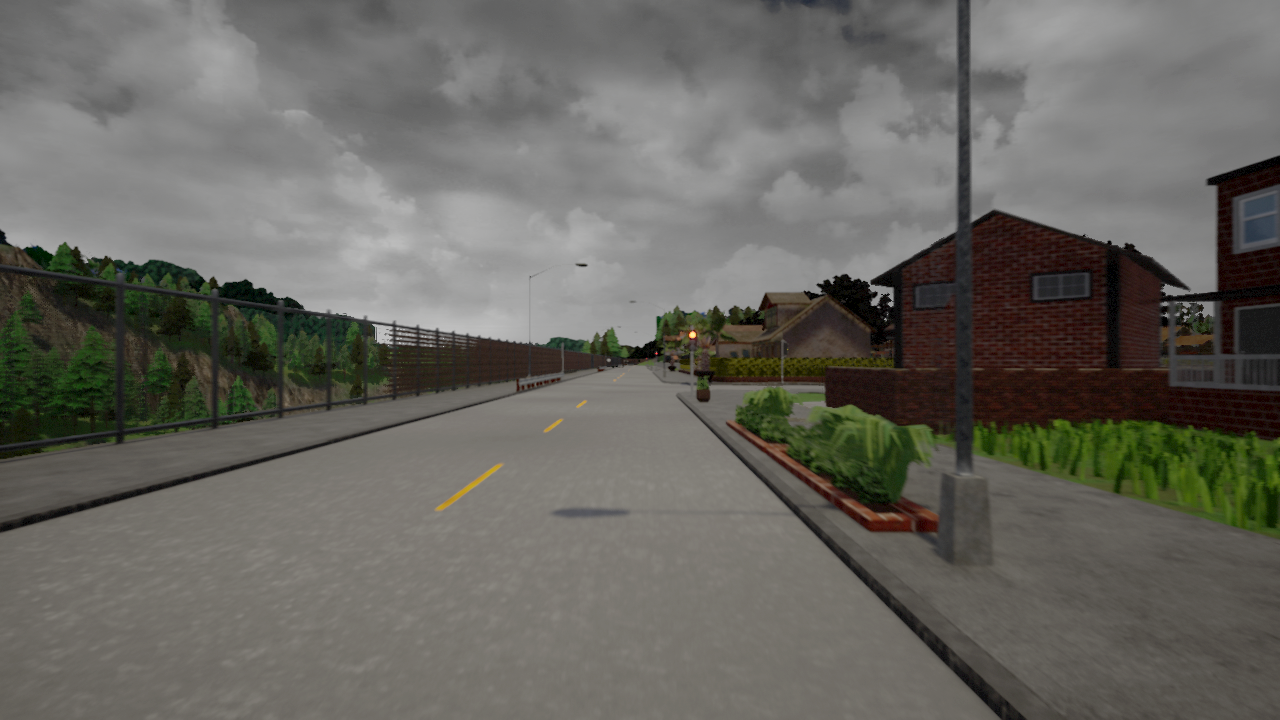red: (687, 329, 697, 352)
